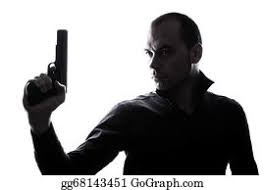gun: (23, 27, 73, 112)
